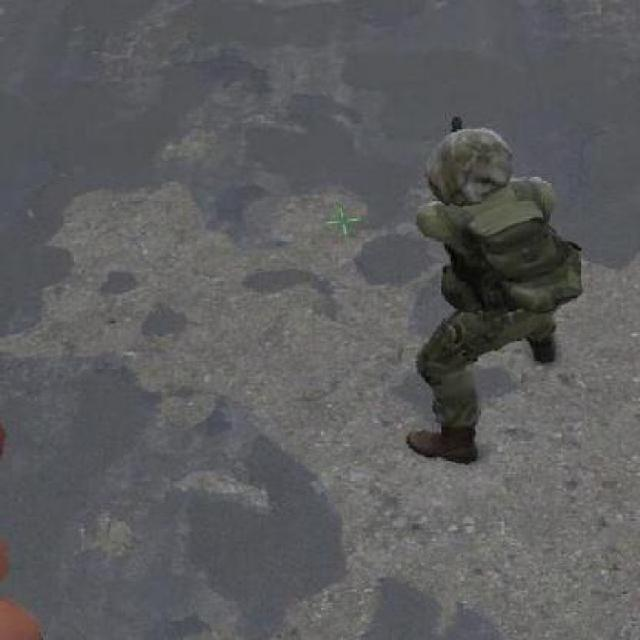CT-Body: (422, 126, 516, 205)
CT-Head: (382, 114, 582, 412)
